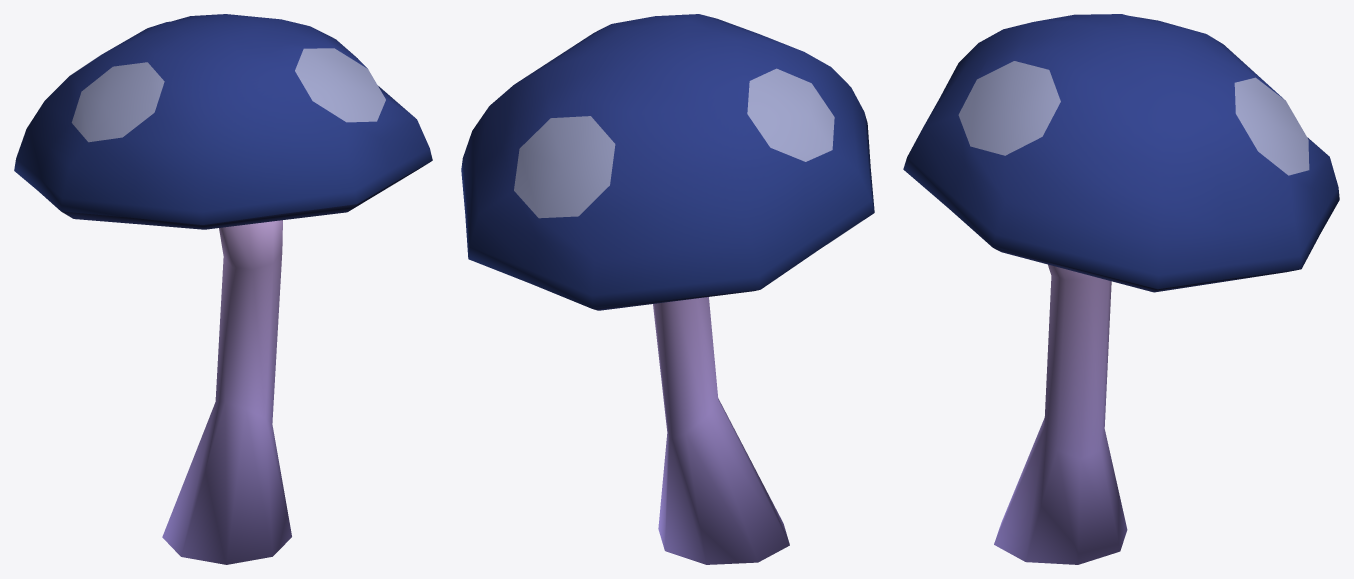
Rendered from BlueShroom4.fbx.
3 views of the same model, side by side, from view 1: azimuth 30°, elevation 25°; view 2: azimuth 150°, elevation 25°; view 3: azimuth 270°, elevation 25° (orthographic). The views are drawn at different scales.
Parts seen in each view (by area): view 1: Sphere.101; view 2: Sphere.101; view 3: Sphere.101.
Part boxes in pixels (box(x1,y1,x2,y2)): Sphere.101: box(14, 14, 432, 564); Sphere.101: box(461, 14, 874, 564); Sphere.101: box(903, 14, 1339, 564).
Size of the model in its own units: 106 by 105 by 136.
